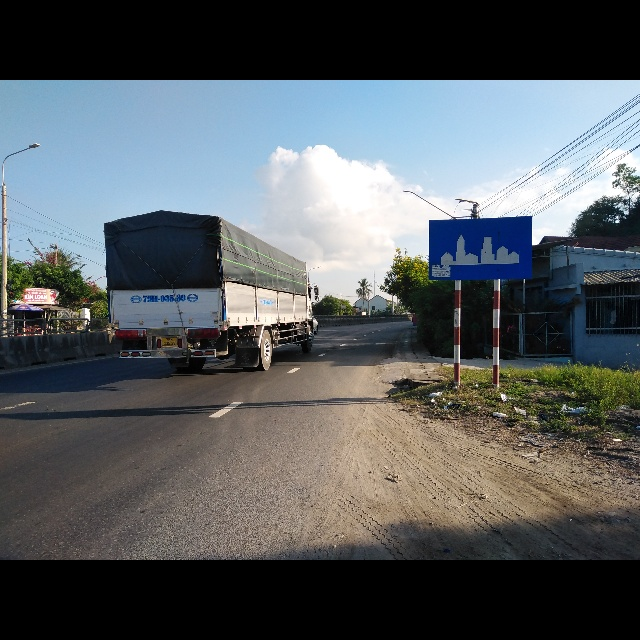Khu đông dân cư: (428, 216, 532, 278)
